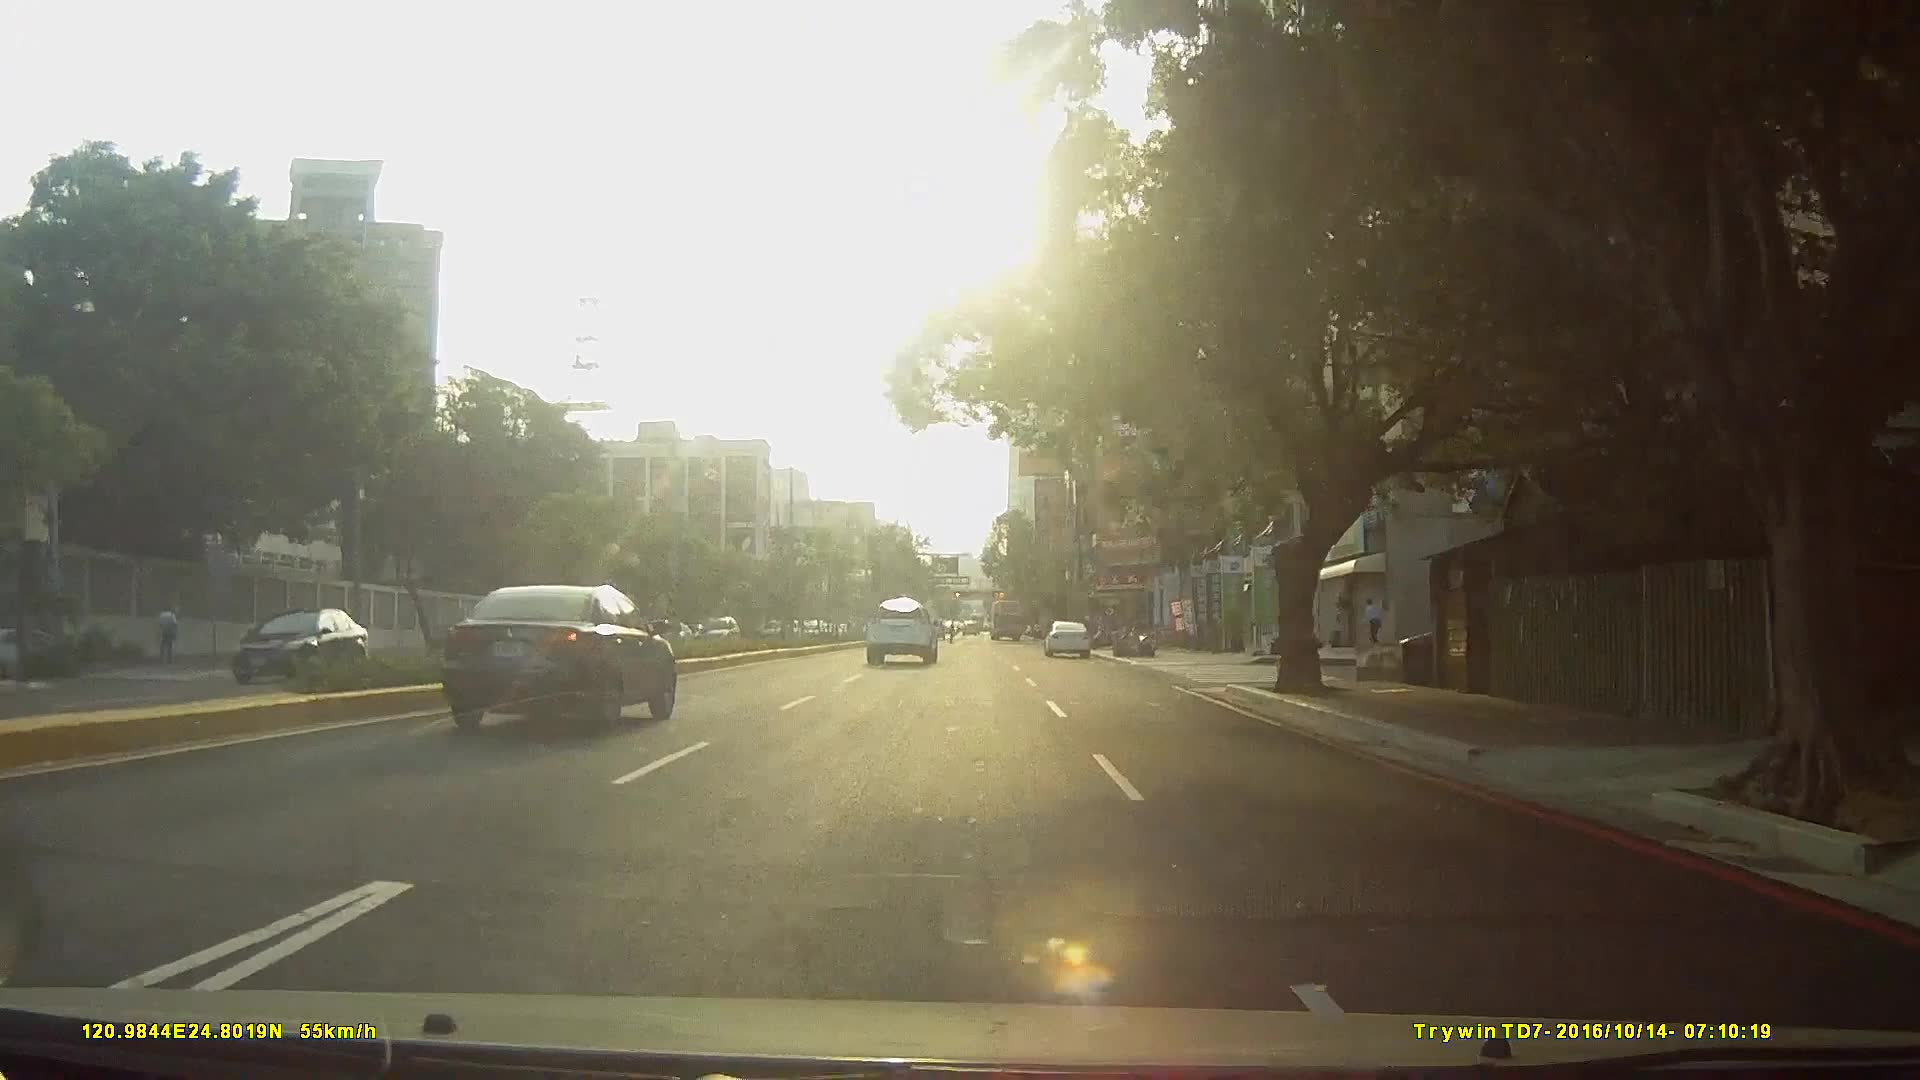pedestrian: (154, 606, 181, 665), (1365, 598, 1385, 647)
vehicle: (441, 582, 678, 738), (220, 607, 379, 692), (863, 597, 940, 667), (1042, 619, 1092, 660), (986, 597, 1026, 642)
